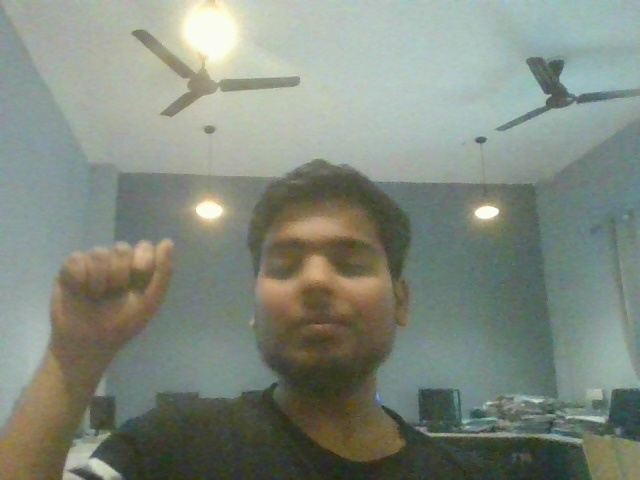A: (21, 200, 198, 366)
